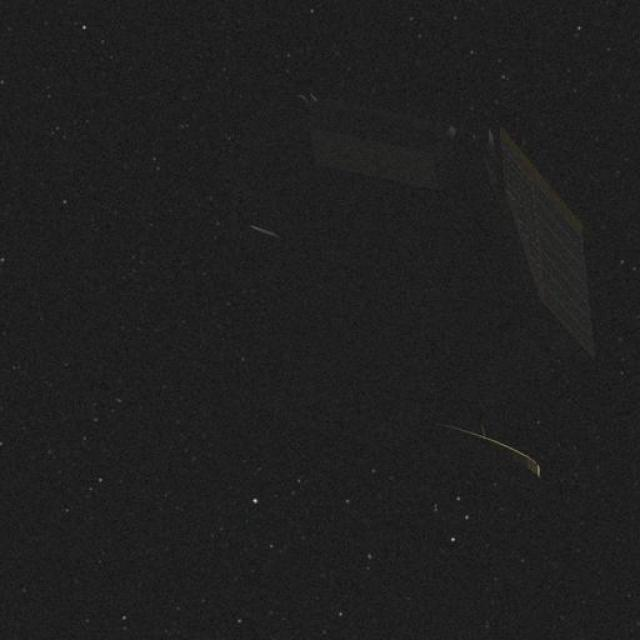debris: (242, 99, 597, 488)
